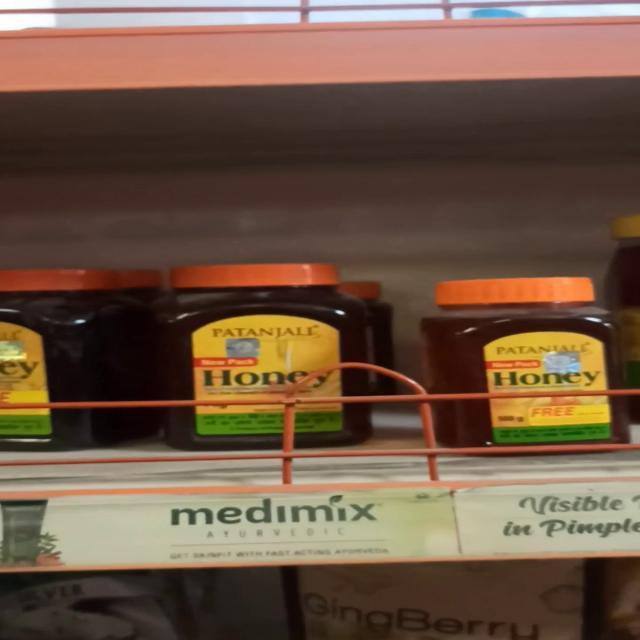Patanjali Honey: (166, 262, 376, 446), (435, 276, 640, 451)
